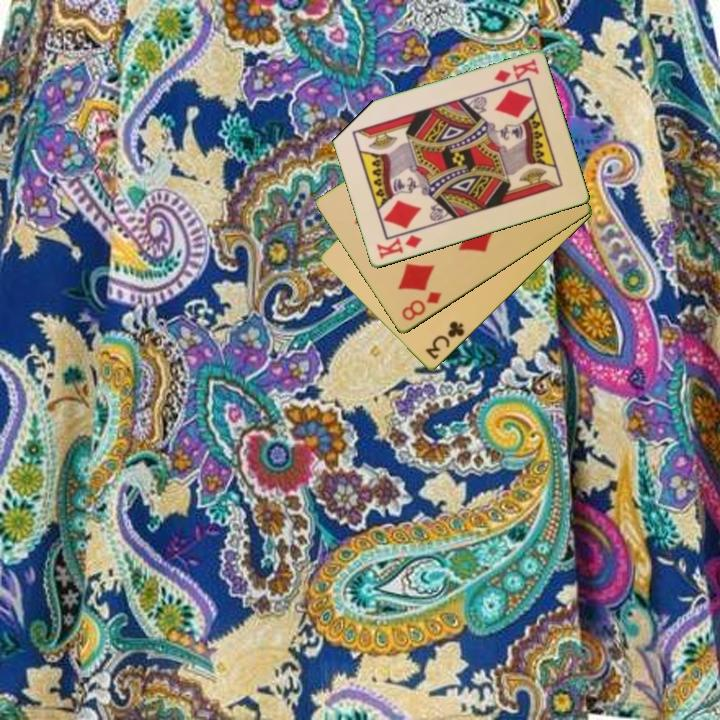3c: (422, 318, 468, 363)
8d: (398, 288, 445, 324)
Kd: (373, 231, 425, 262), (490, 55, 542, 86)
